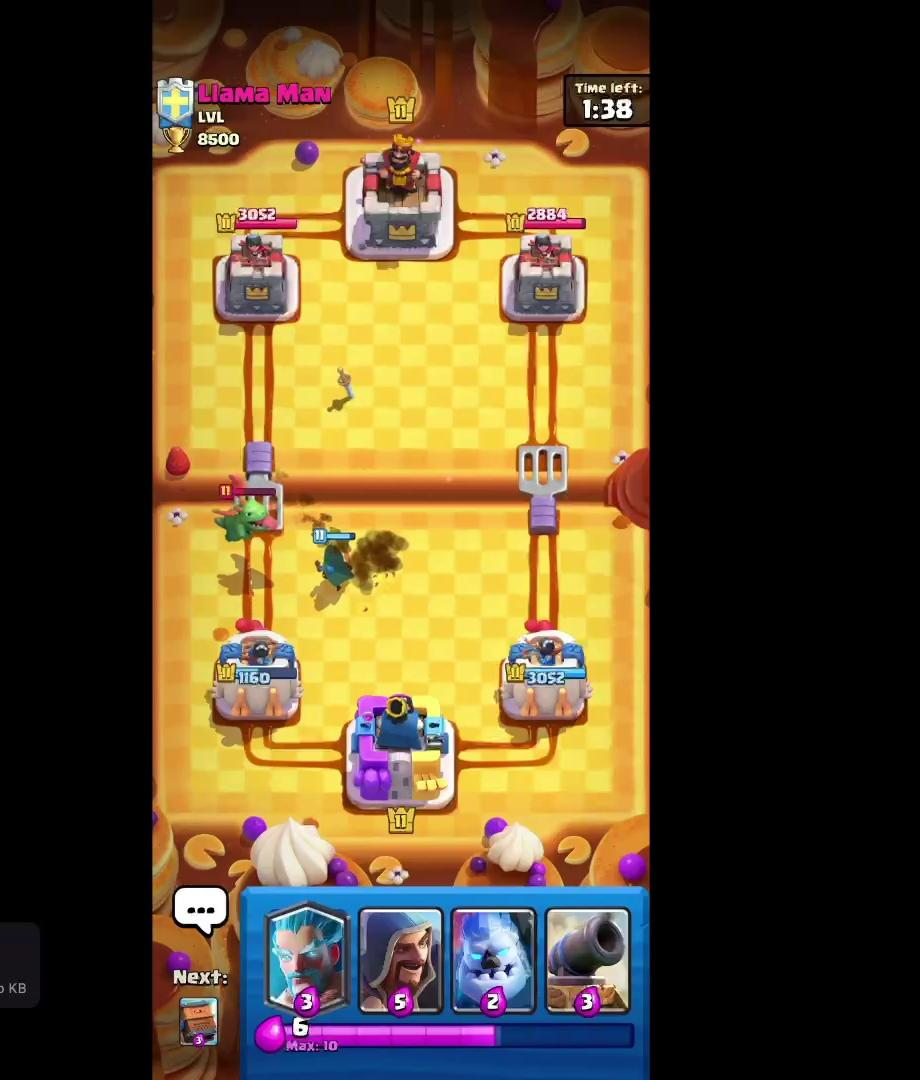Baby Dragon: (207, 479, 292, 558)
